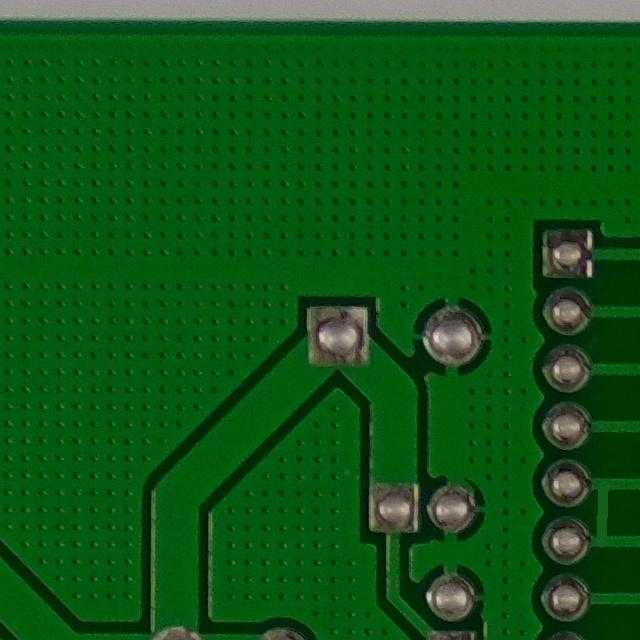short: (553, 463, 640, 564)
